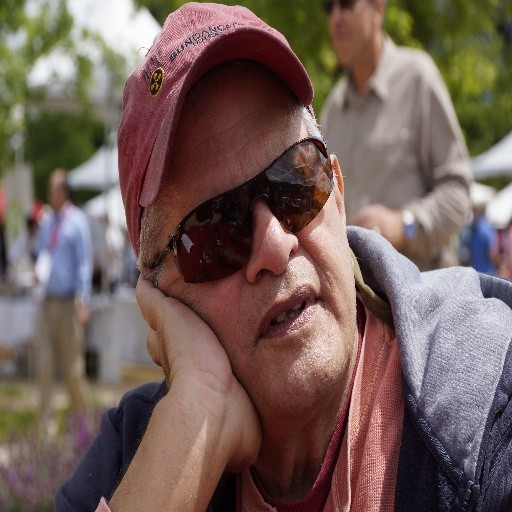hand: (97, 288, 267, 507), (350, 200, 405, 250), (75, 304, 88, 324)
